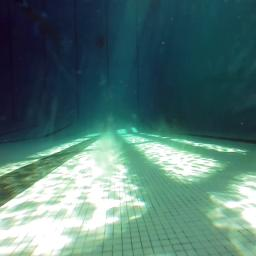Full: (165, 117, 182, 129)
